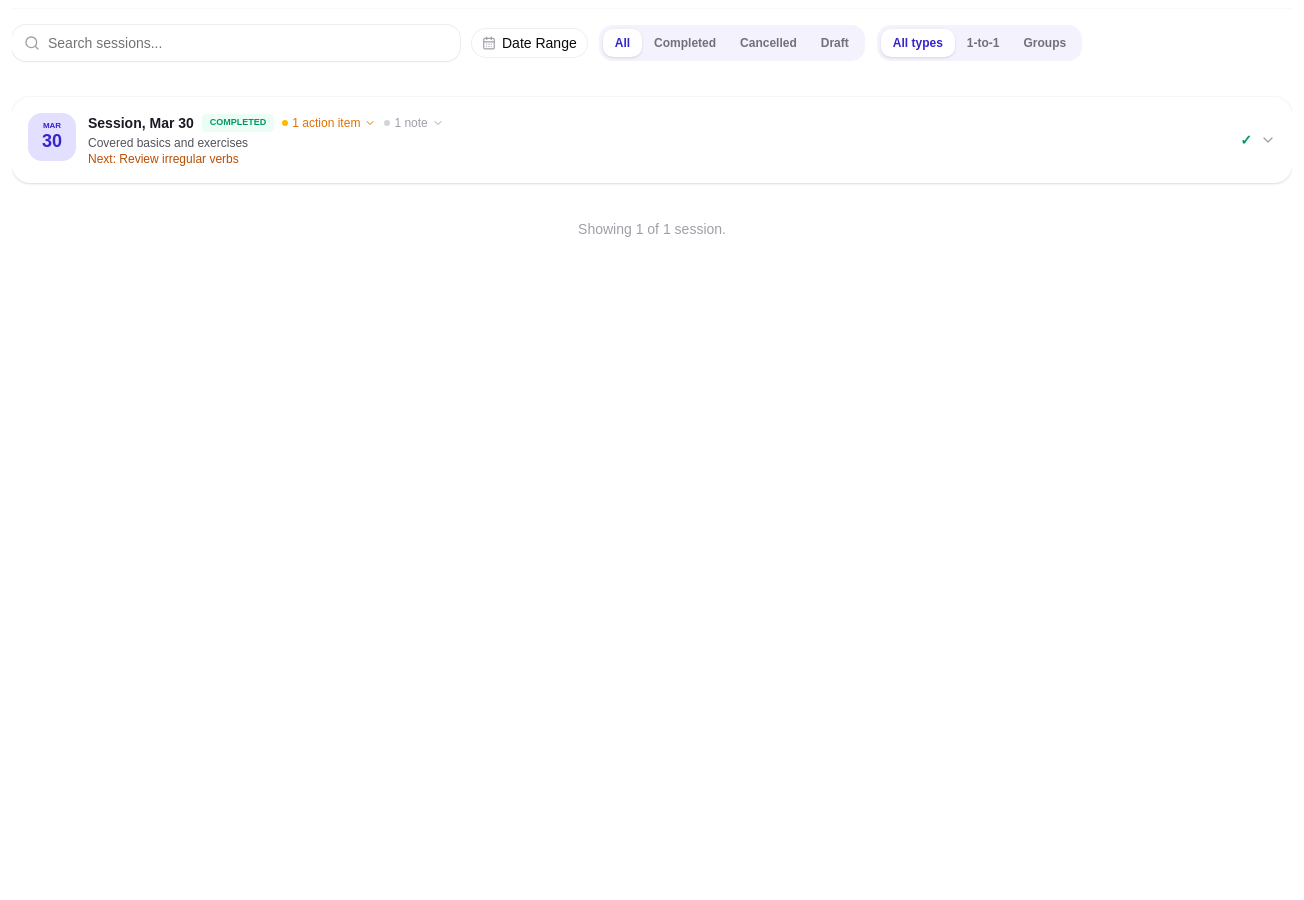
Test: SessionHistoryTab › hides actualContent snippet when expanded and shows it in detail section as editable input
The image size is (1304, 900).
Click the button with test id "session-entry-toggle". click: {"x": 52, "y": 137}
box: x1=12 y1=97 x2=1292 y2=183
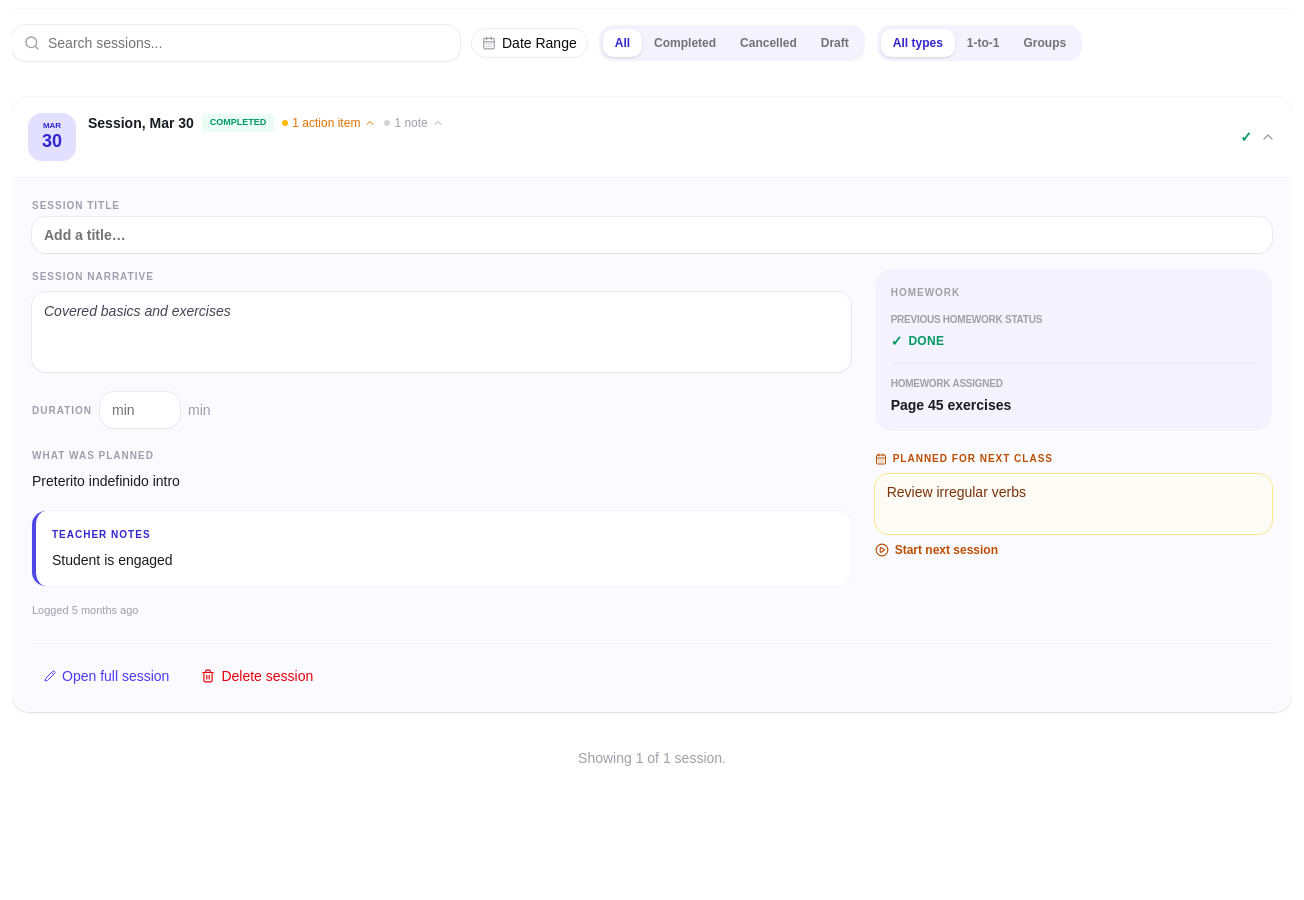
Now the element with test id "session-entry-detail" is shown, box x1=12 y1=177 x2=1292 y2=712
Now the text box with test id "session-narrative-input" holds "Covered basics and exercises", box x1=32 y1=292 x2=851 y2=372
Now the text "Preterito indefinido intro" is shown, box x1=32 y1=473 x2=180 y2=489
